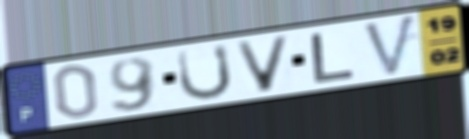0: (51, 62, 101, 121)
9: (107, 54, 161, 113)
L: (309, 31, 359, 86)
U: (174, 42, 235, 103)
V: (361, 12, 420, 79), (231, 34, 294, 95)
